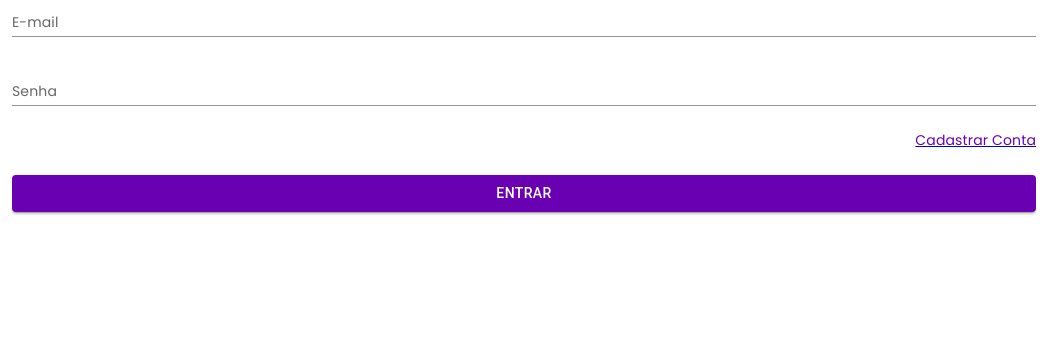
Test case: <Form /> › when the email and password are not filled in and the "ENTER" button is clicked, should show the correct help messages
What coordinates should you click on to do the following:
click the button with test id "button-login"
I would click on:
 (524, 194)
Its box is [12,175,1036,212].
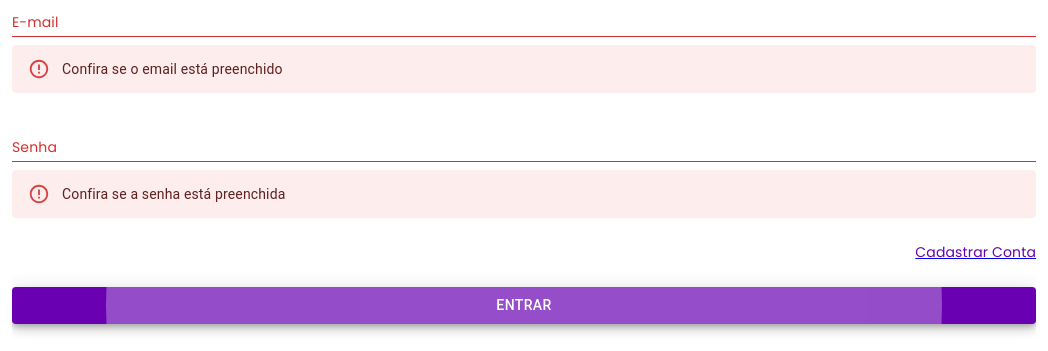
Result: the message "Confira se o email está preenchido" is shown at [12,45,1036,93]
Result: the text "Confira se o email está preenchido" is shown at [62,61,283,77]
Result: the message "Confira se a senha está preenchida" is shown at [12,170,1036,218]
